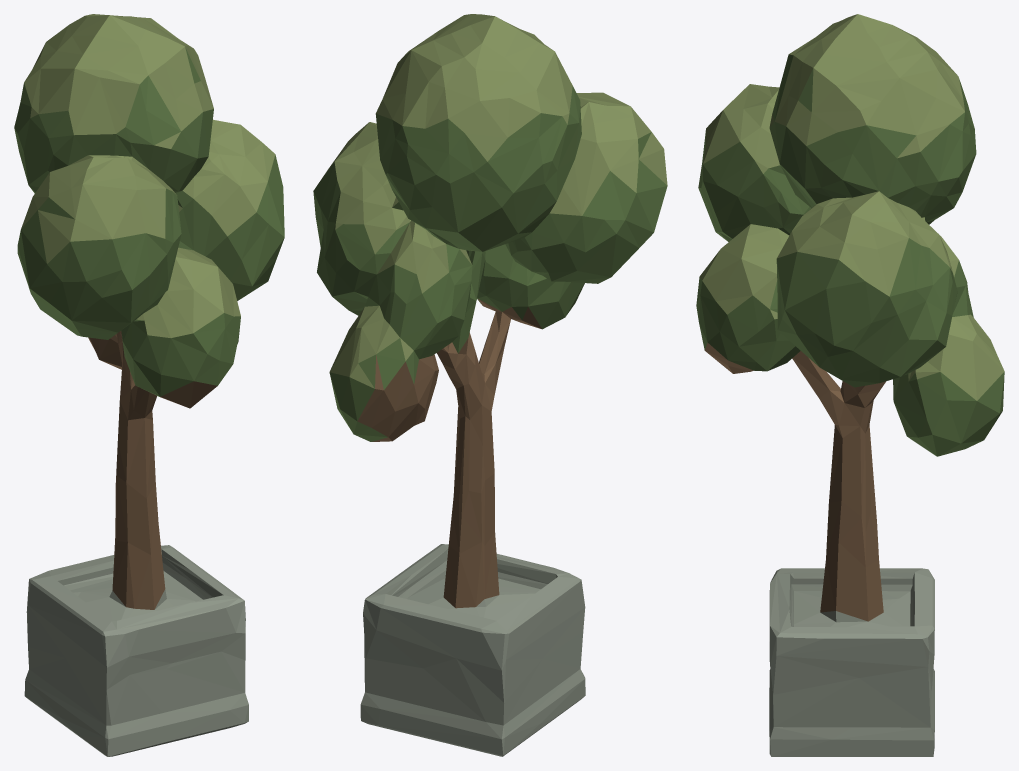
The model's file is sidewalk_tree.glb.
3 views of the same model, side by side, from view 1: azimuth 30°, elevation 25°; view 2: azimuth 150°, elevation 25°; view 3: azimuth 270°, elevation 25° (orthographic).
Parts seen in each view (by area): view 1: sidewalk_tree; view 2: sidewalk_tree; view 3: sidewalk_tree.
Boxes of the visible parts, x1=… form: sidewalk_tree: x1=14, y1=14, x2=284, y2=756; sidewalk_tree: x1=313, y1=14, x2=667, y2=756; sidewalk_tree: x1=696, y1=14, x2=1004, y2=756.
Size of the model in its own units: 1.7 by 4 by 1.6.
